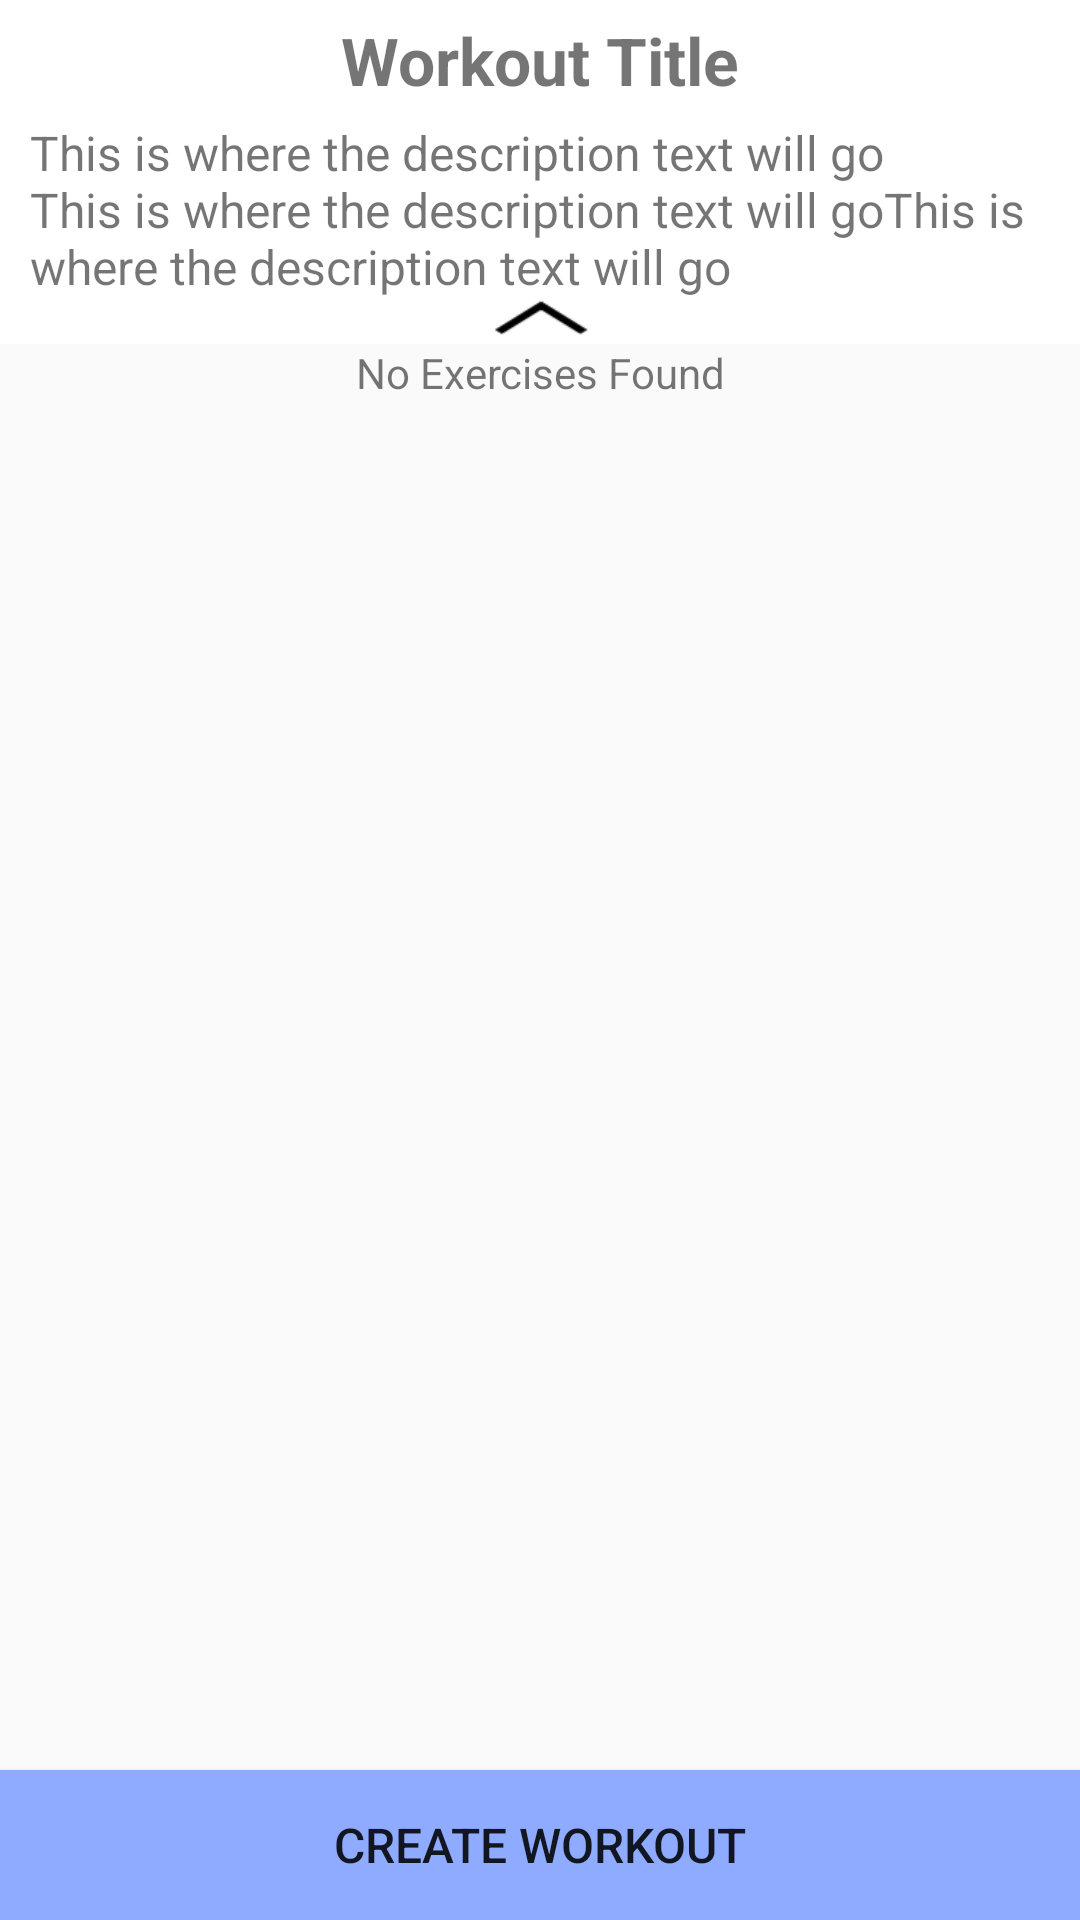

Locate icon controls on the screen. Image size 1080 × 1920, boxes as bbox=(x1, y1, x2, y2).
colapse long: bbox=(495, 301, 588, 335)
